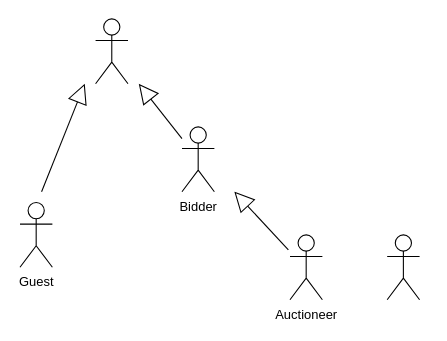
Image size: 447x341. Some labels were removed from this diagram. The centre of each missing label's shape, as x and y in pixels:
"Manager" goes at [403,267].
"User" goes at [111,51].
